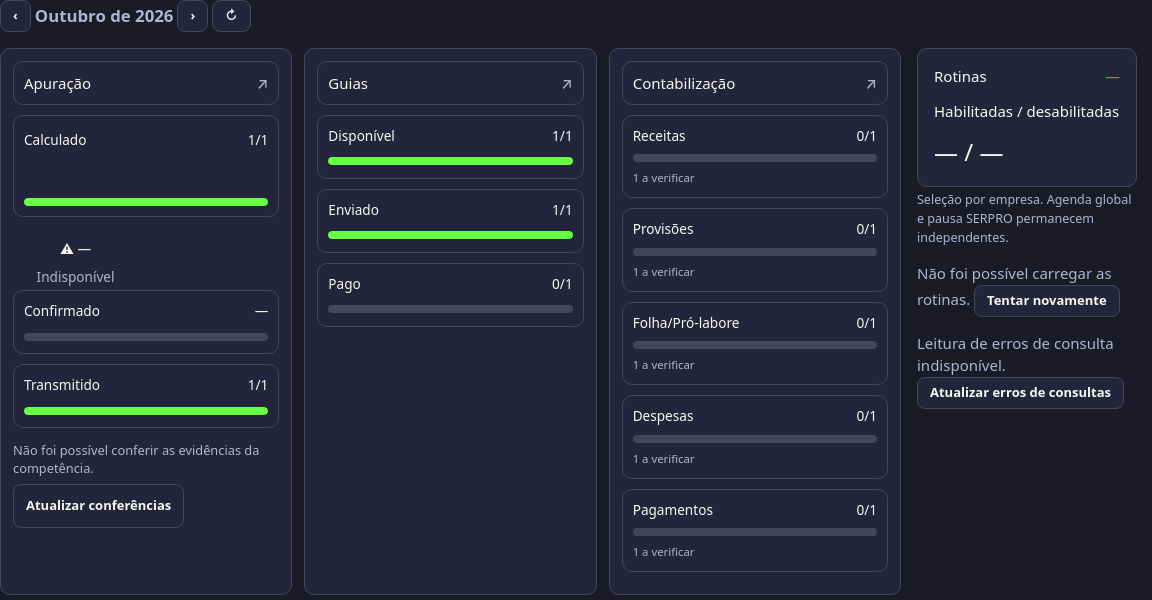
detalhe de DOCUMENT_ABSENT abre pela empresa sem criar pendência ou executar ações
Click the button with aria-label "Pago 0/1 empresas".
click(345, 284)  # box [317,263,584,327]
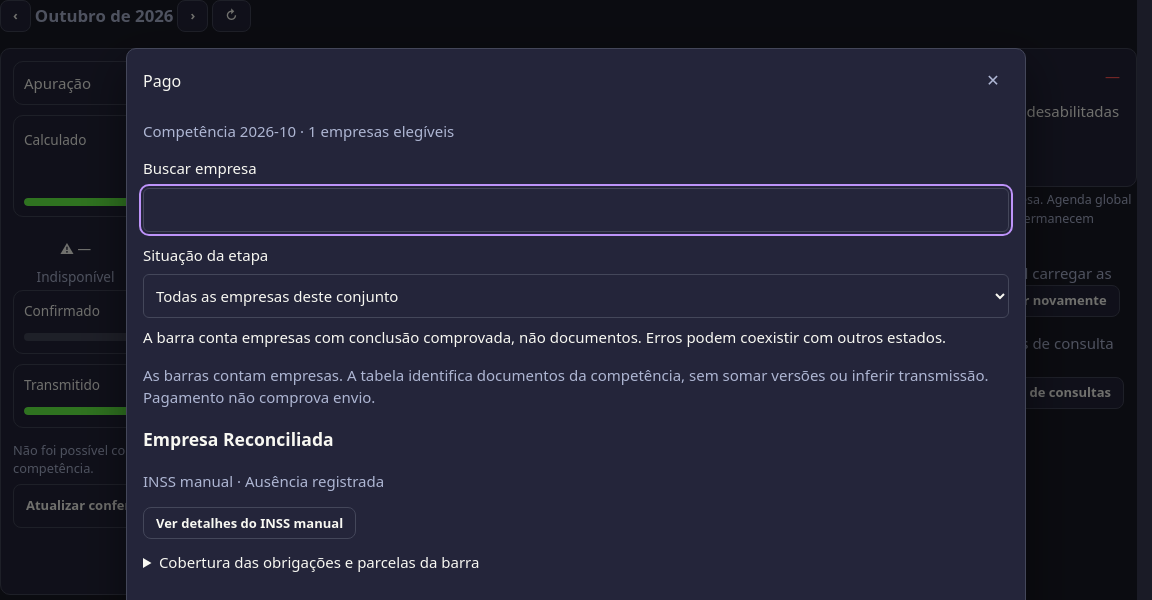
Click the button "Ver detalhes do INSS manual".
click(250, 523)  # box [143,507,356,539]
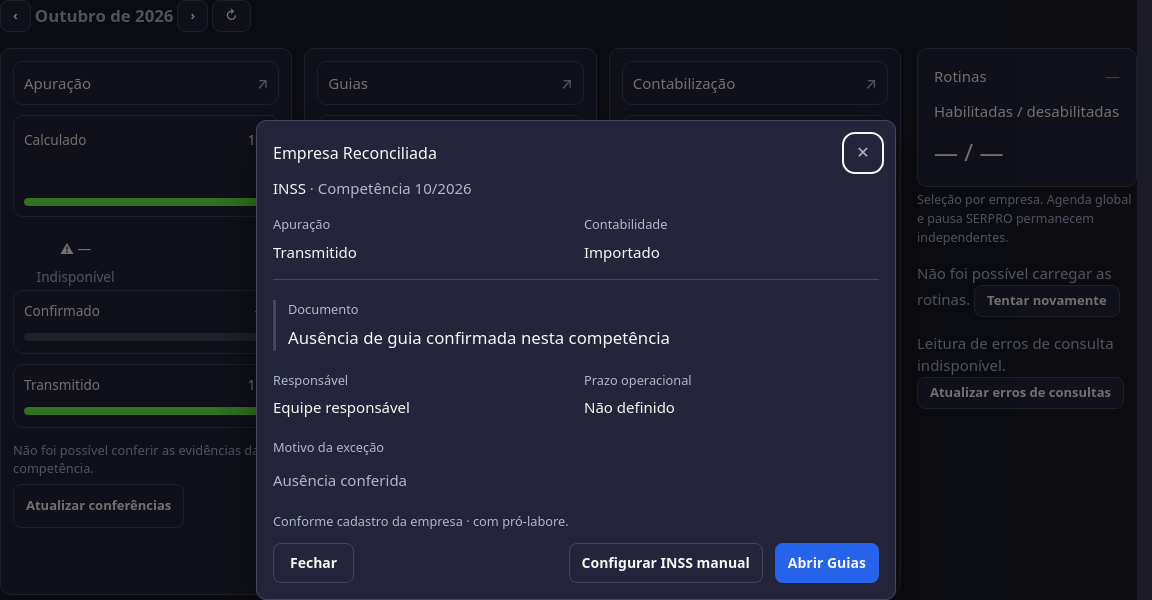
Expected: the text "Equipe responsável" is shown, [273,397,410,417]
Click the button "Fechar".
click(314, 563)  # box [273,543,354,583]
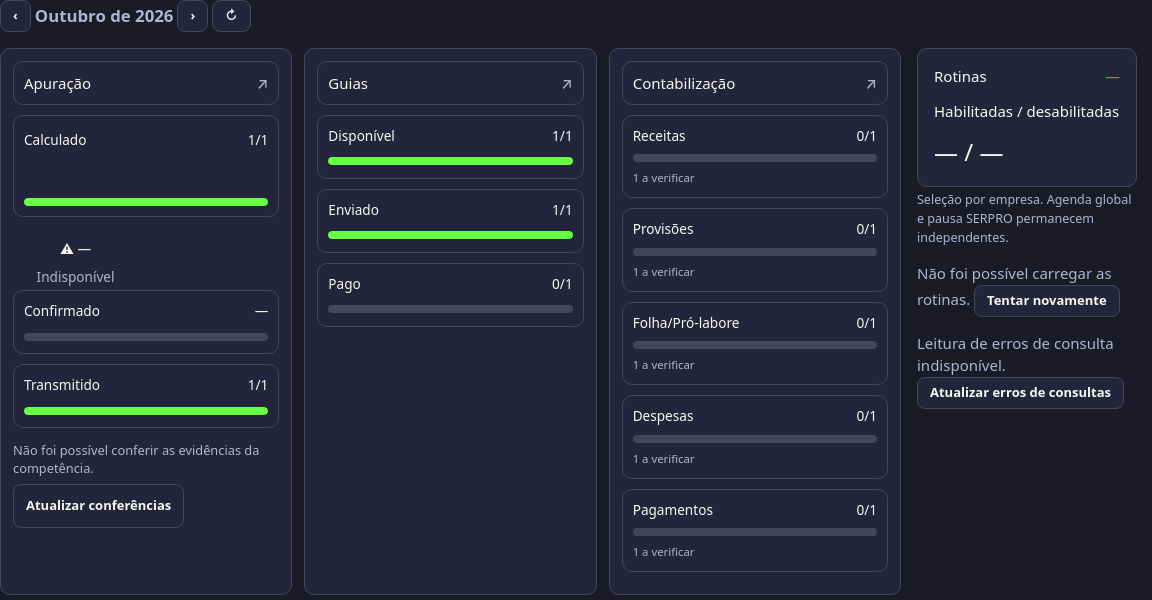
Expected: the text "Equipe responsável" is gone
Click the button with aria-label "Pago 0/1 empresas".
click(345, 284)  # box [317,263,584,327]
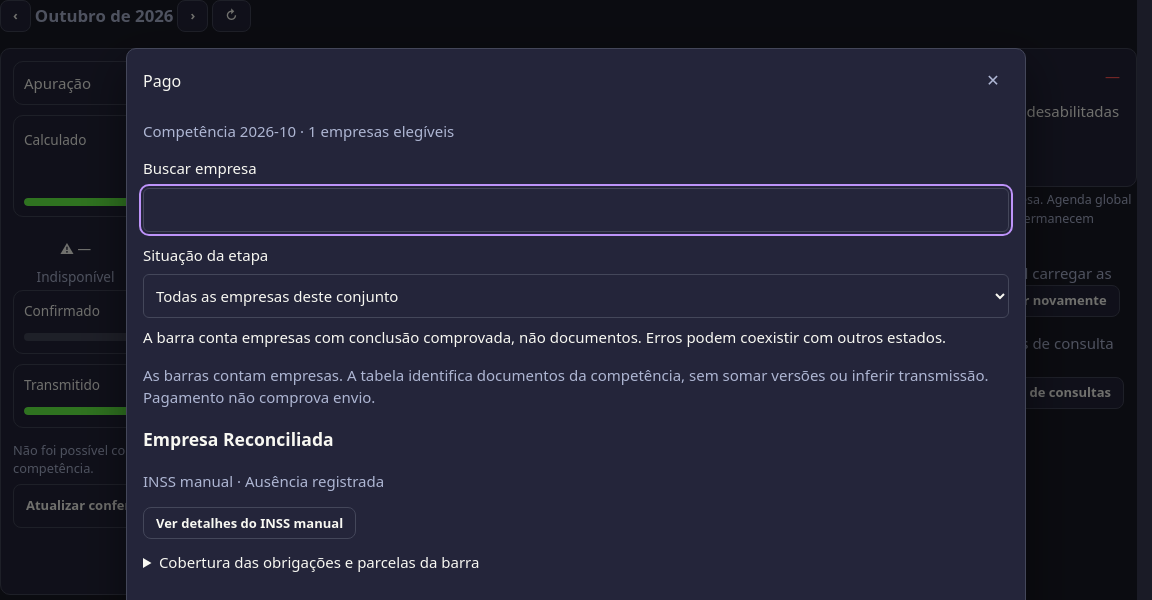
Click the button "Ver detalhes do INSS manual".
click(250, 523)  # box [143,507,356,539]
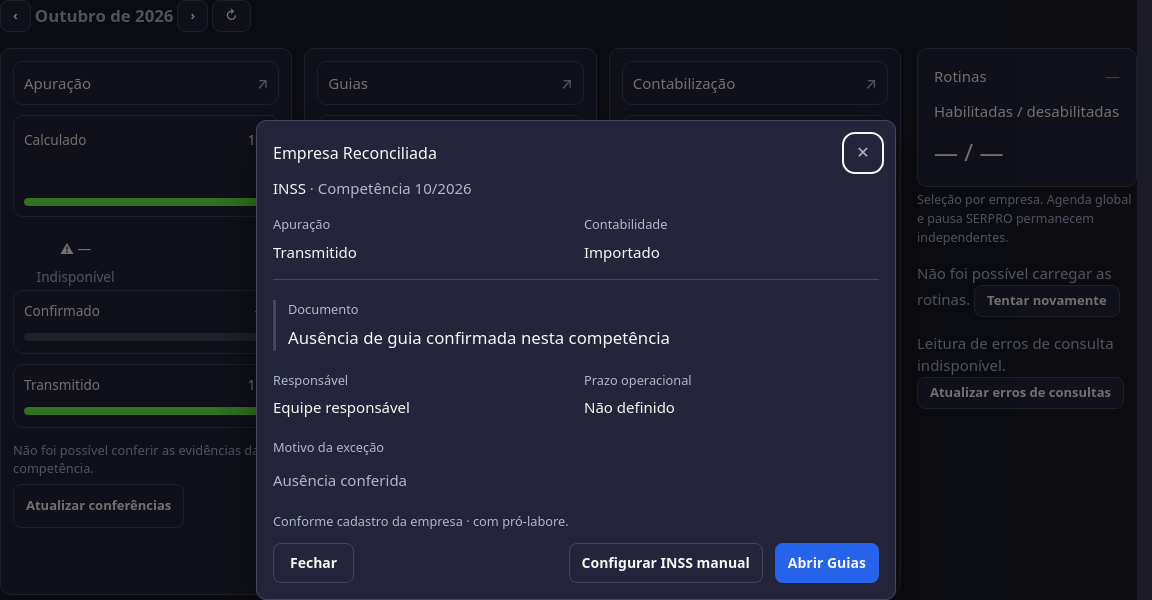
Expected: the text "Equipe responsável" is shown, [273,397,410,417]
